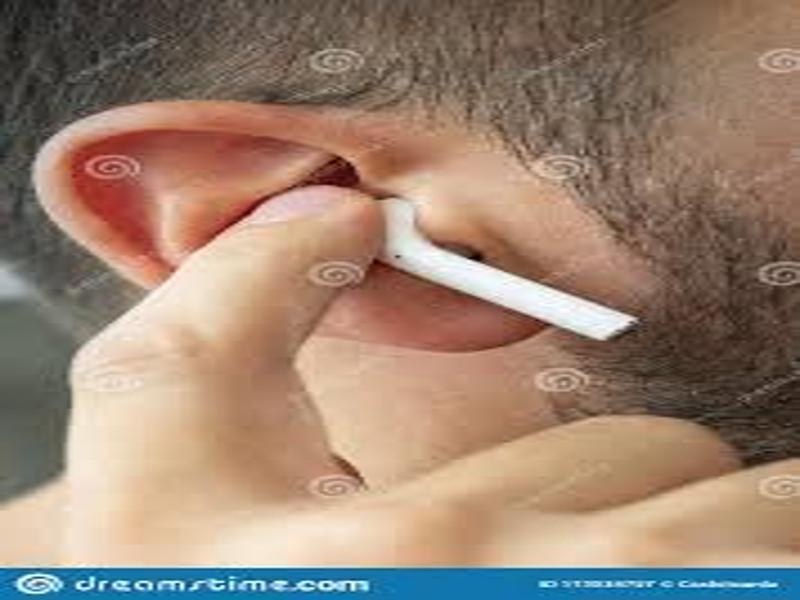headphone: (357, 189, 642, 348)
